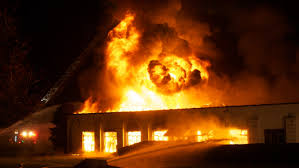fire: (83, 27, 254, 148)
